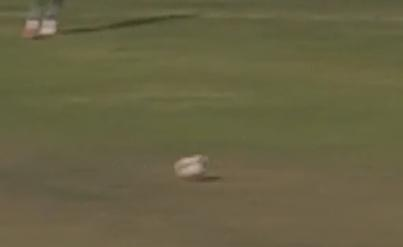ball: (172, 147, 217, 187)
